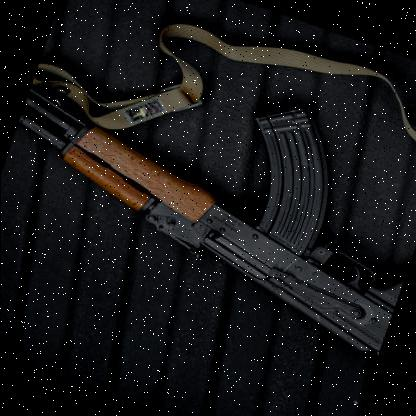rifle: (0, 23, 416, 374)
